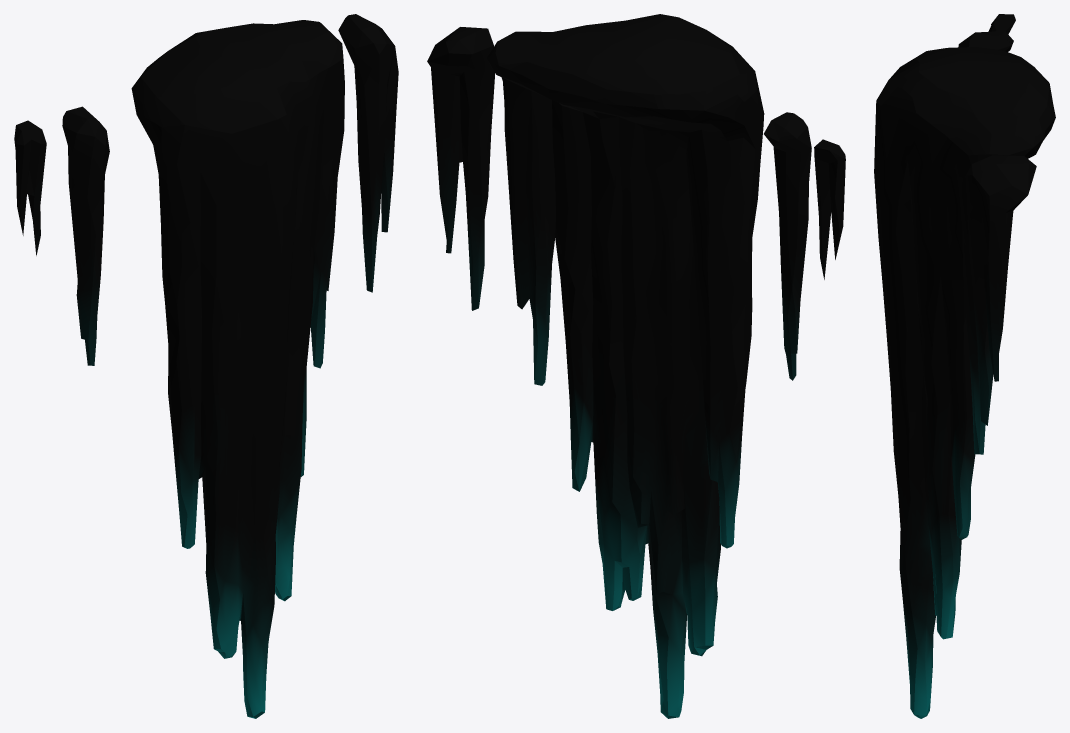
Rendered from Stalactite_1.fbx.
The picture shows the model from 3 angles, left to right: view 1: azimuth 30°, elevation 25°; view 2: azimuth 150°, elevation 25°; view 3: azimuth 270°, elevation 25°; orthographic projection. The views are drawn at different scales.
Visible parts, largest first — view 1: Stalactite_1_LOD0; view 2: Stalactite_1_LOD0; view 3: Stalactite_1_LOD0.
Boxes of the visible parts, bbox=[...] form: Stalactite_1_LOD0: bbox=[14, 14, 398, 718]; Stalactite_1_LOD0: bbox=[427, 14, 845, 718]; Stalactite_1_LOD0: bbox=[874, 14, 1055, 718].
Size of what is drawn, in the model's own units: 91.31 by 150 by 37.57.
